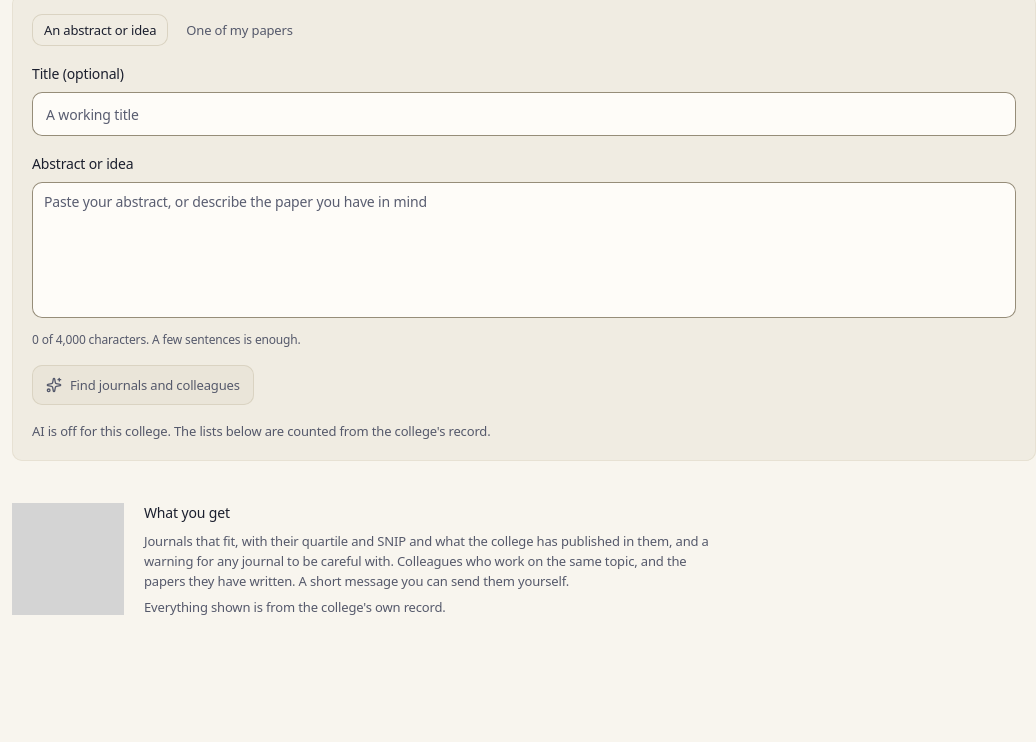
Test: Research helper: the lists › shows quartile, SNIP, the college's history and a plain warning for a watched journal
In the text box labelled "Abstract or idea": [524, 250] box top-left (32, 182), bottom-right (1016, 318), type "We design a maximum power point tracking controller for photovoltaic arrays under partial shading."
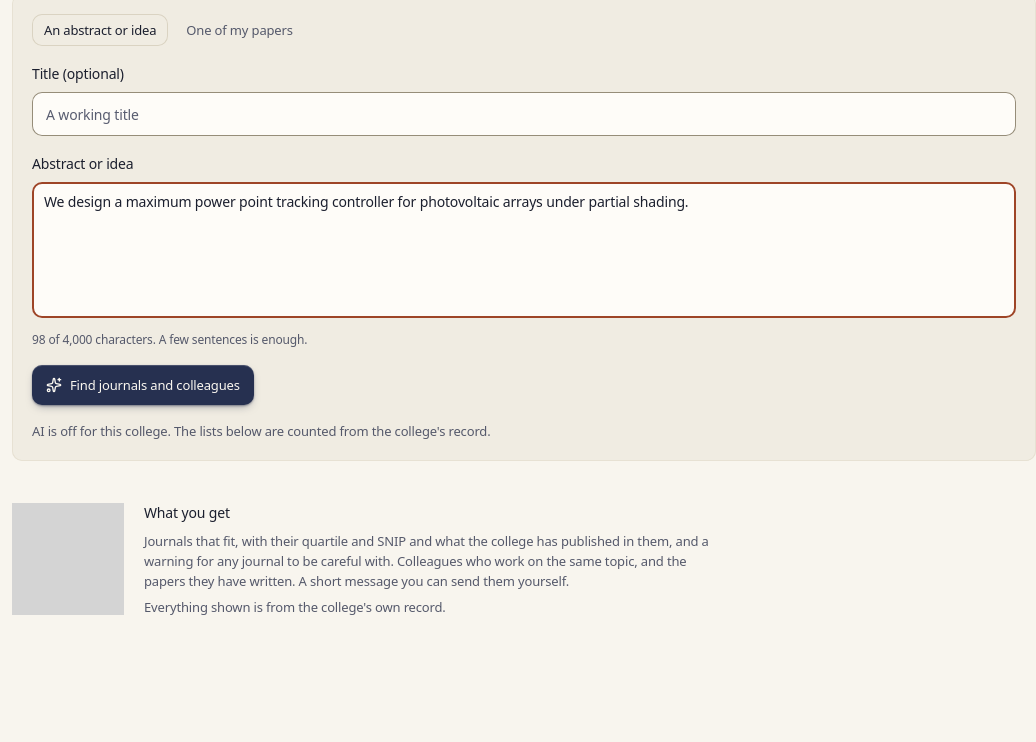
Click the button "Find journals and colleagues": [143, 385] box top-left (32, 365), bottom-right (254, 405)
(page scrolled)
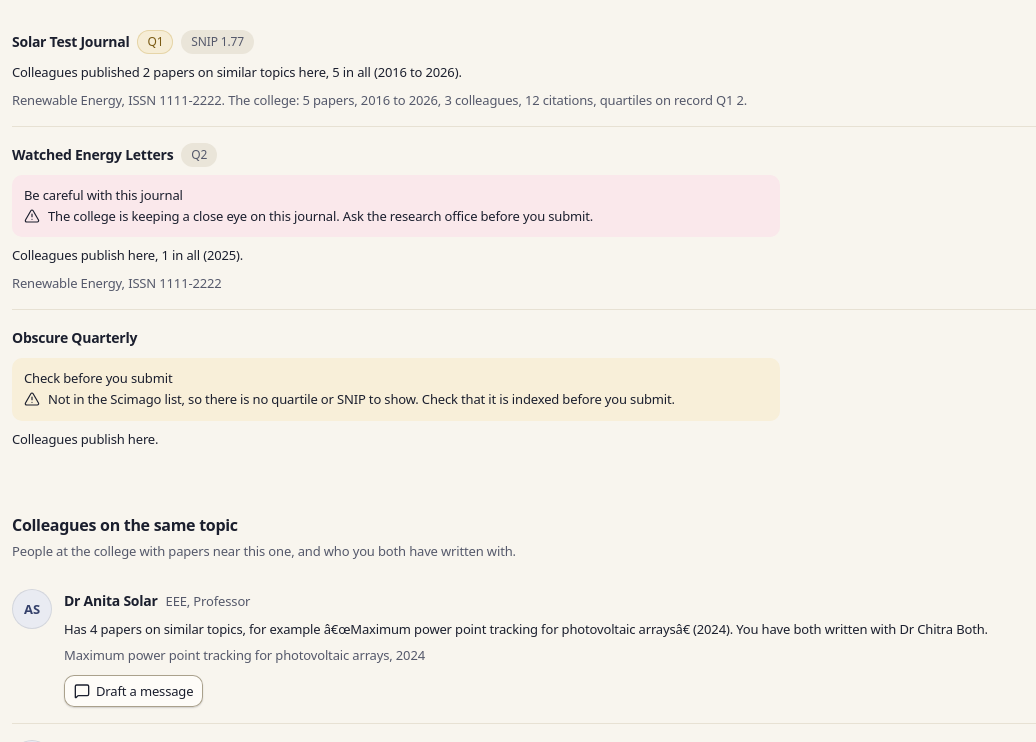
Result: the text "Q1" is shown at top-left (137, 30), bottom-right (173, 54)
Result: the text "SNIP 1.77" is shown at top-left (181, 30), bottom-right (254, 54)
Result: the text "The college: 5 papers, 2016 to 2026, 3 colleagues, 12 citations, quartiles on record Q1 2" is shown at top-left (12, 91), bottom-right (747, 109)
